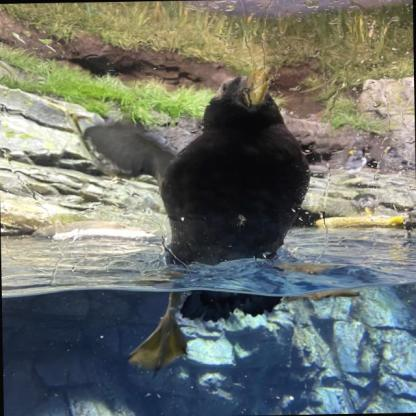puffin: (146, 67, 319, 266)
